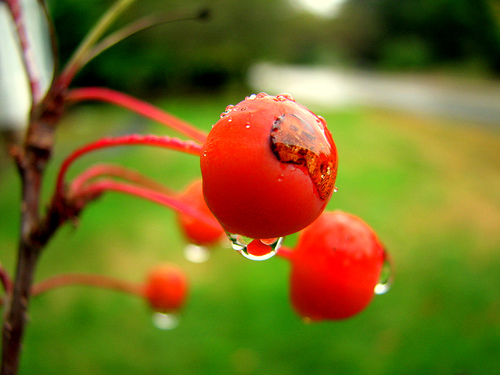apple: (188, 90, 342, 236)
